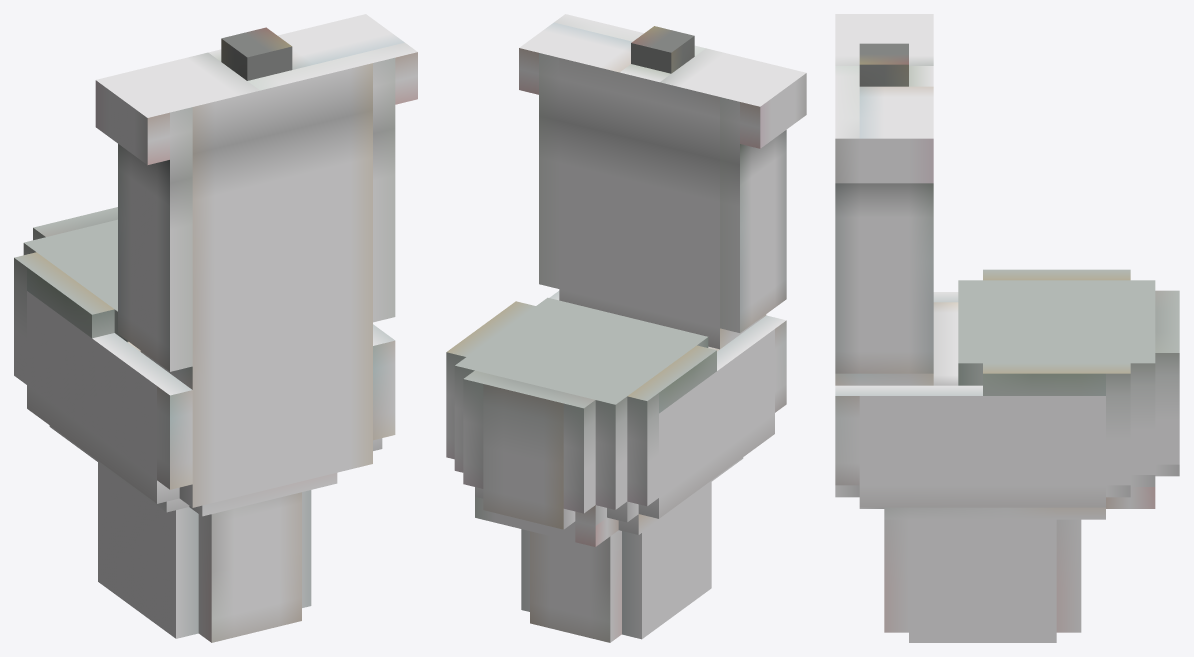
File: Toilet_00.fbx
The picture shows the model from 3 angles, left to right: view 1: azimuth 30°, elevation 25°; view 2: azimuth 150°, elevation 25°; view 3: azimuth 270°, elevation 25°; orthographic projection. The views are drawn at different scales.
Visible parts, largest first — view 1: Toilet_00; view 2: Toilet_00; view 3: Toilet_00.
Part boxes in pixels (x1=…): Toilet_00: x1=14, y1=14, x2=417, y2=642; Toilet_00: x1=446, y1=14, x2=806, y2=642; Toilet_00: x1=835, y1=14, x2=1179, y2=642.
Size of the model in its own units: 60 by 70 by 125.
1 material, 1 textured.
